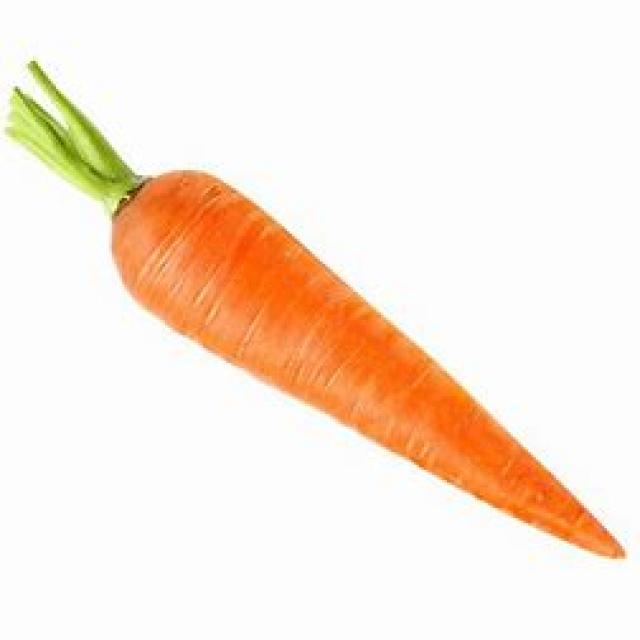Carrot: (6, 62, 628, 571)
